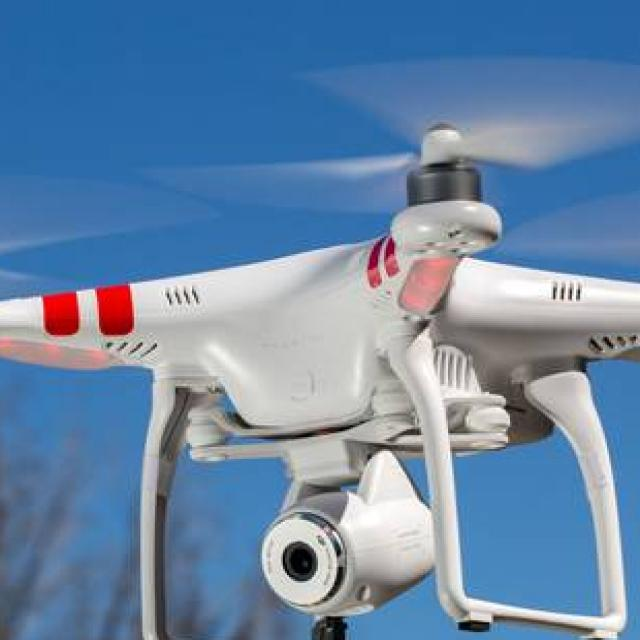drone: (0, 77, 640, 595)
